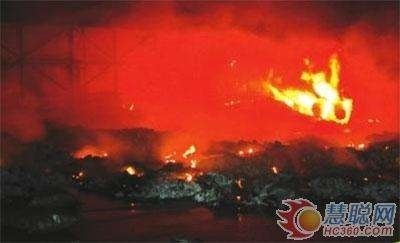fire: (263, 54, 355, 123), (164, 141, 204, 181)
